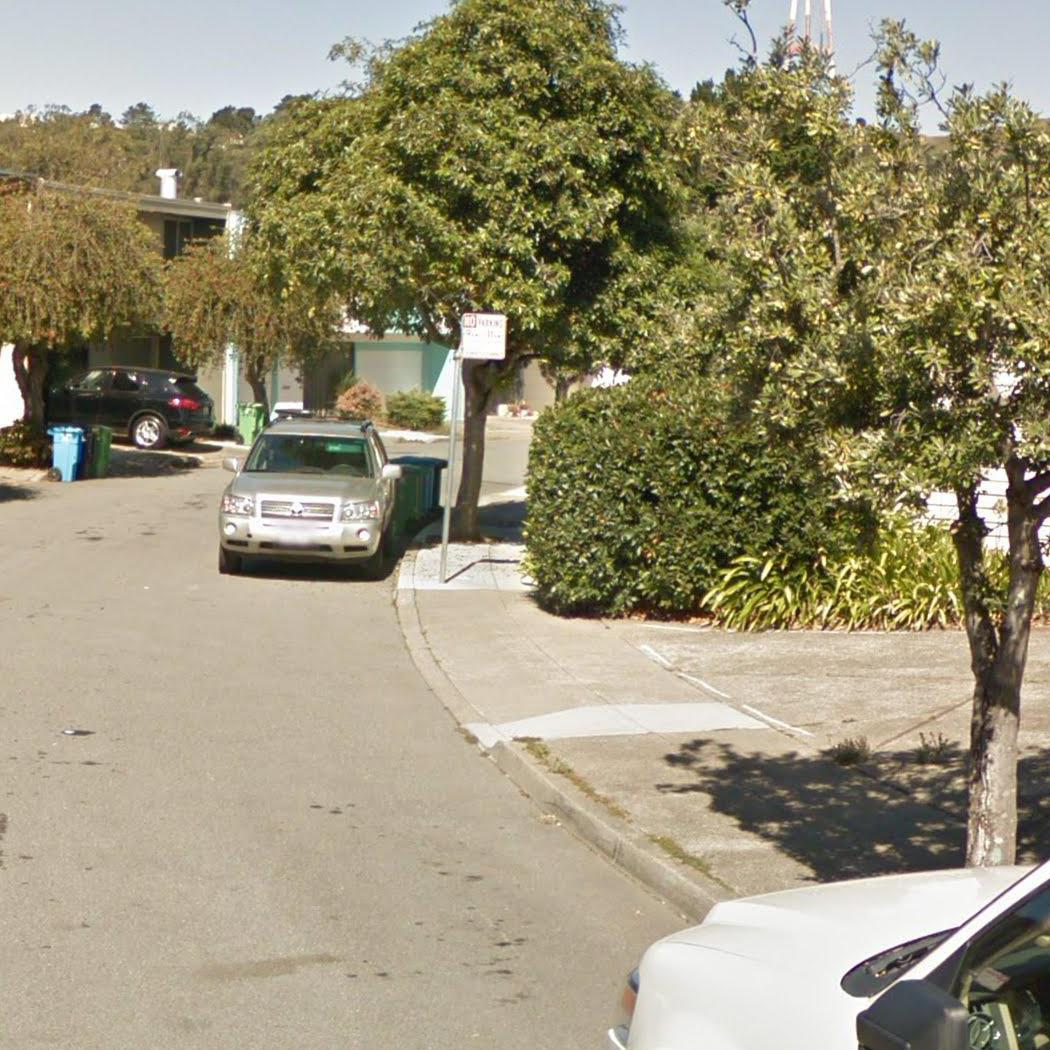No Parking: (459, 311, 510, 362)
